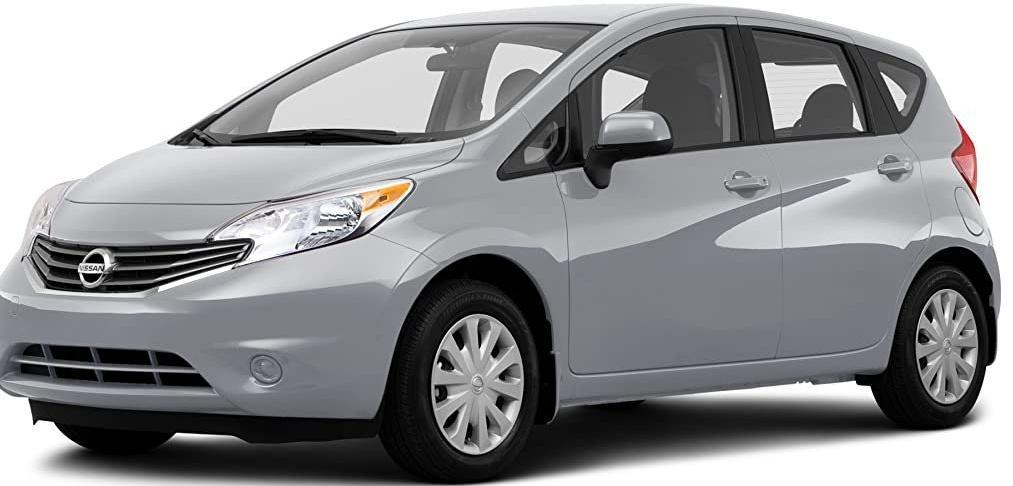Cars: (1, 7, 1004, 482)
